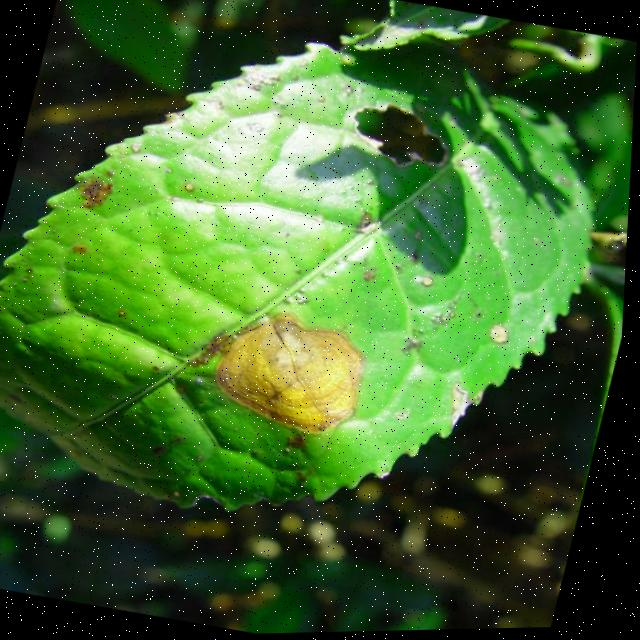Tea cloud leaf blight: (208, 299, 388, 438)
